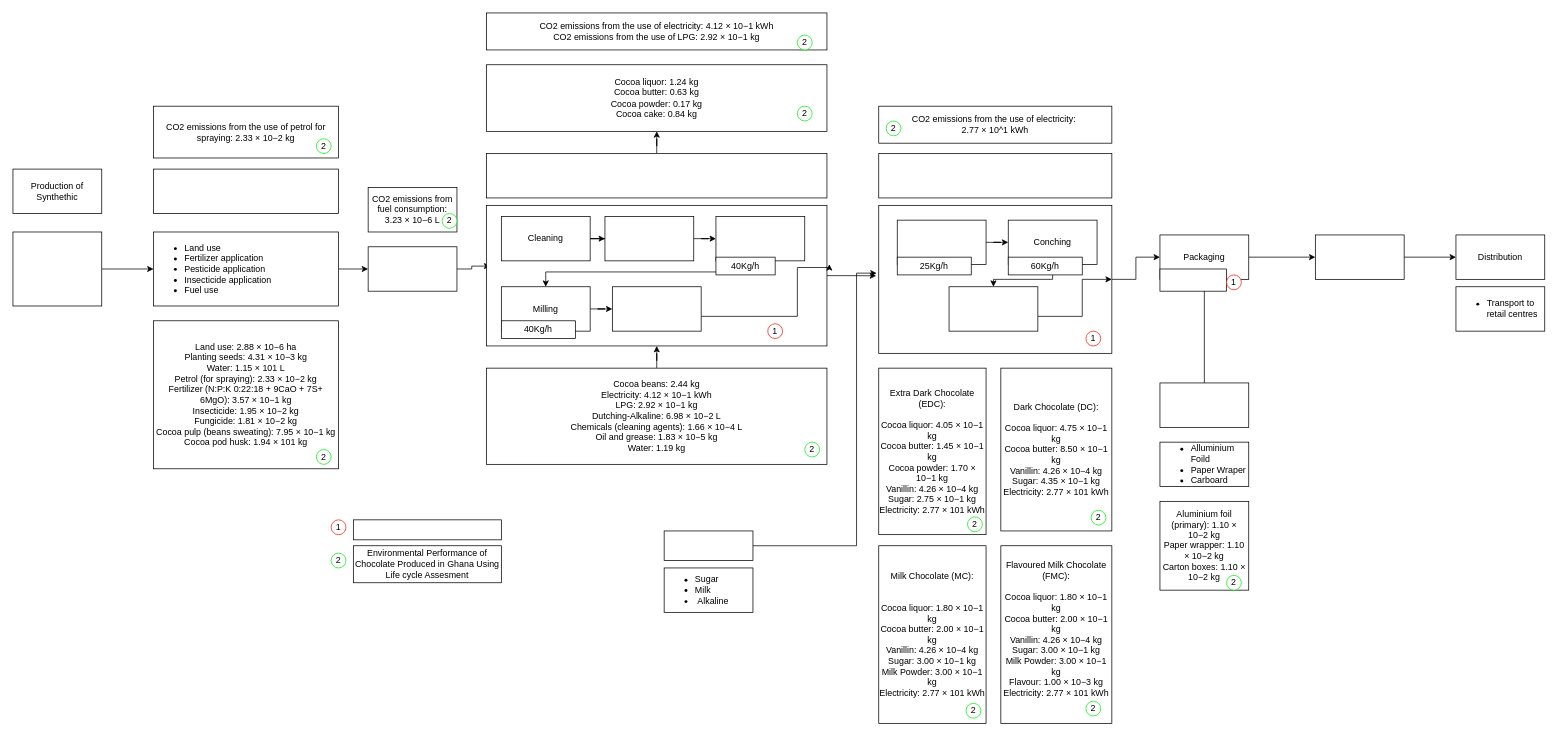
The diagram is 1558 pixels wide and 736 high, and some of its shapes have lost their labels. Each missing label, with the centre of its shape:
"18kg/h" belongs at (1193,279).
"Chocolate manufacturing" belongs at (995,175).
"Cocoa Bean processing" belongs at (656,175).
"Cocoa Cultivation" belongs at (246,190).
"Drying" belongs at (649,238).
"Fertilizer Insceticides Pesticides" belongs at (57,268).
"Mixing" belongs at (941,242).
"Pressing" belongs at (656,308).
"Production of Ingredients" belongs at (708,545).
"Production of packaging" belongs at (1204,404).
"Quality Control" belongs at (1359,256).
"Roasting" belongs at (760,238).
"Selmi-group.fr" belongs at (427,529).
"Tempering" belongs at (993,308).
"Transportation of cocoa Beans" belongs at (412,268).
